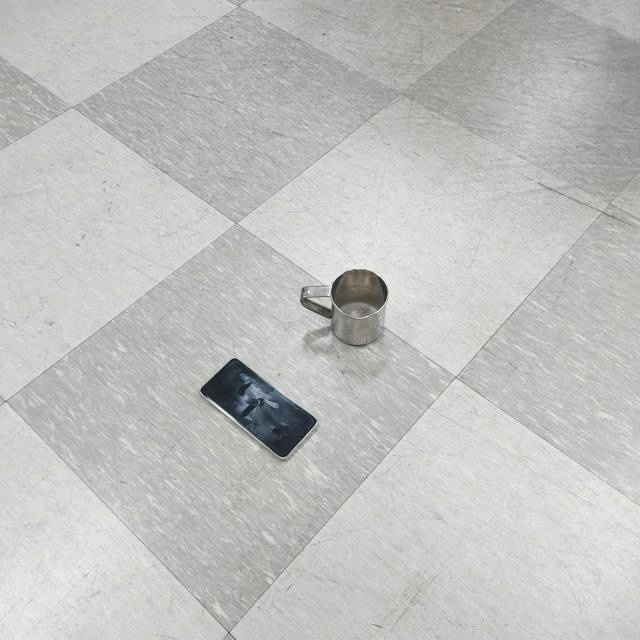cup: (301, 268, 390, 346)
phone: (198, 357, 318, 459)
